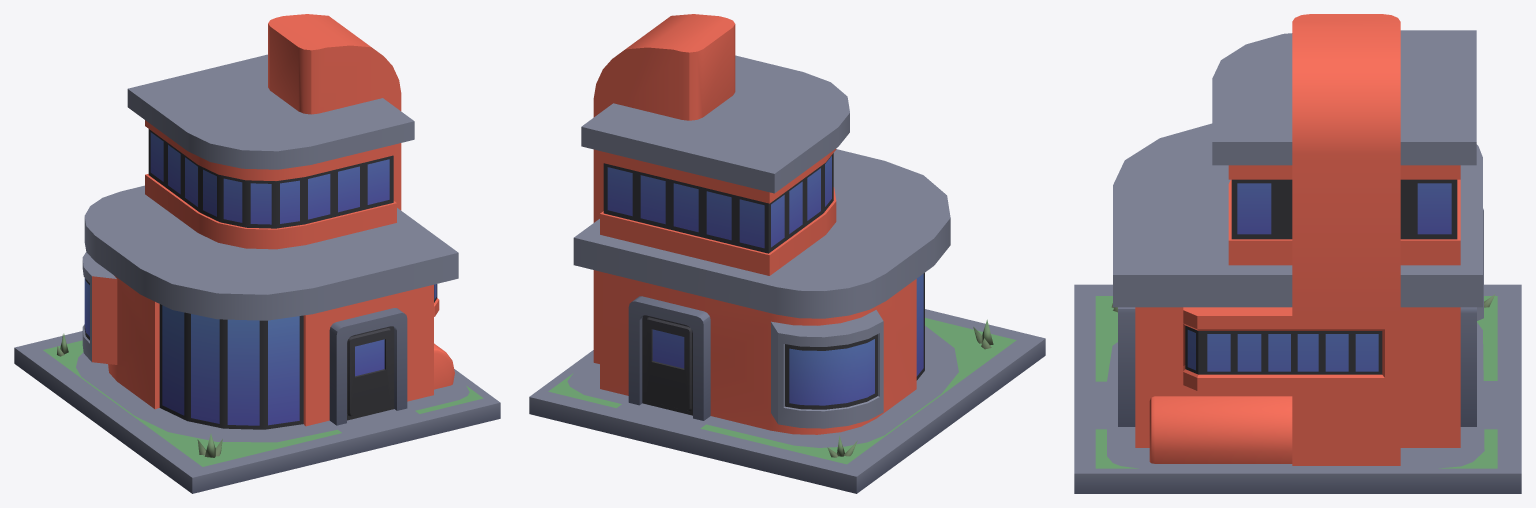
Rendered from building-small-a.glb.
3 views of the same model, side by side, from view 1: azimuth 30°, elevation 25°; view 2: azimuth 150°, elevation 25°; view 3: azimuth 270°, elevation 25° (orthographic). The views are drawn at different scales.
Visible parts, largest first — view 1: building-small-a; view 2: building-small-a; view 3: building-small-a.
Part boxes in pixels (box(x1,y1,x2,y2)): building-small-a: box(14, 14, 500, 493); building-small-a: box(529, 14, 1045, 493); building-small-a: box(1074, 14, 1521, 493).
Bounding box in the file's own units: 1 × 1.02 × 1.
Materials: 1 (1 with a texture image).
